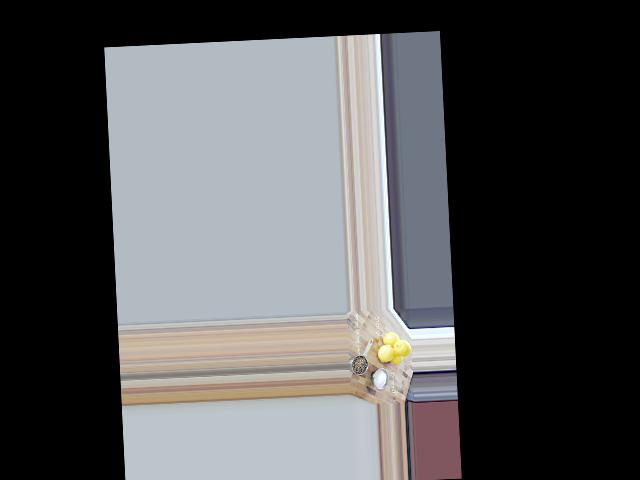lemon: (389, 352, 402, 366)
